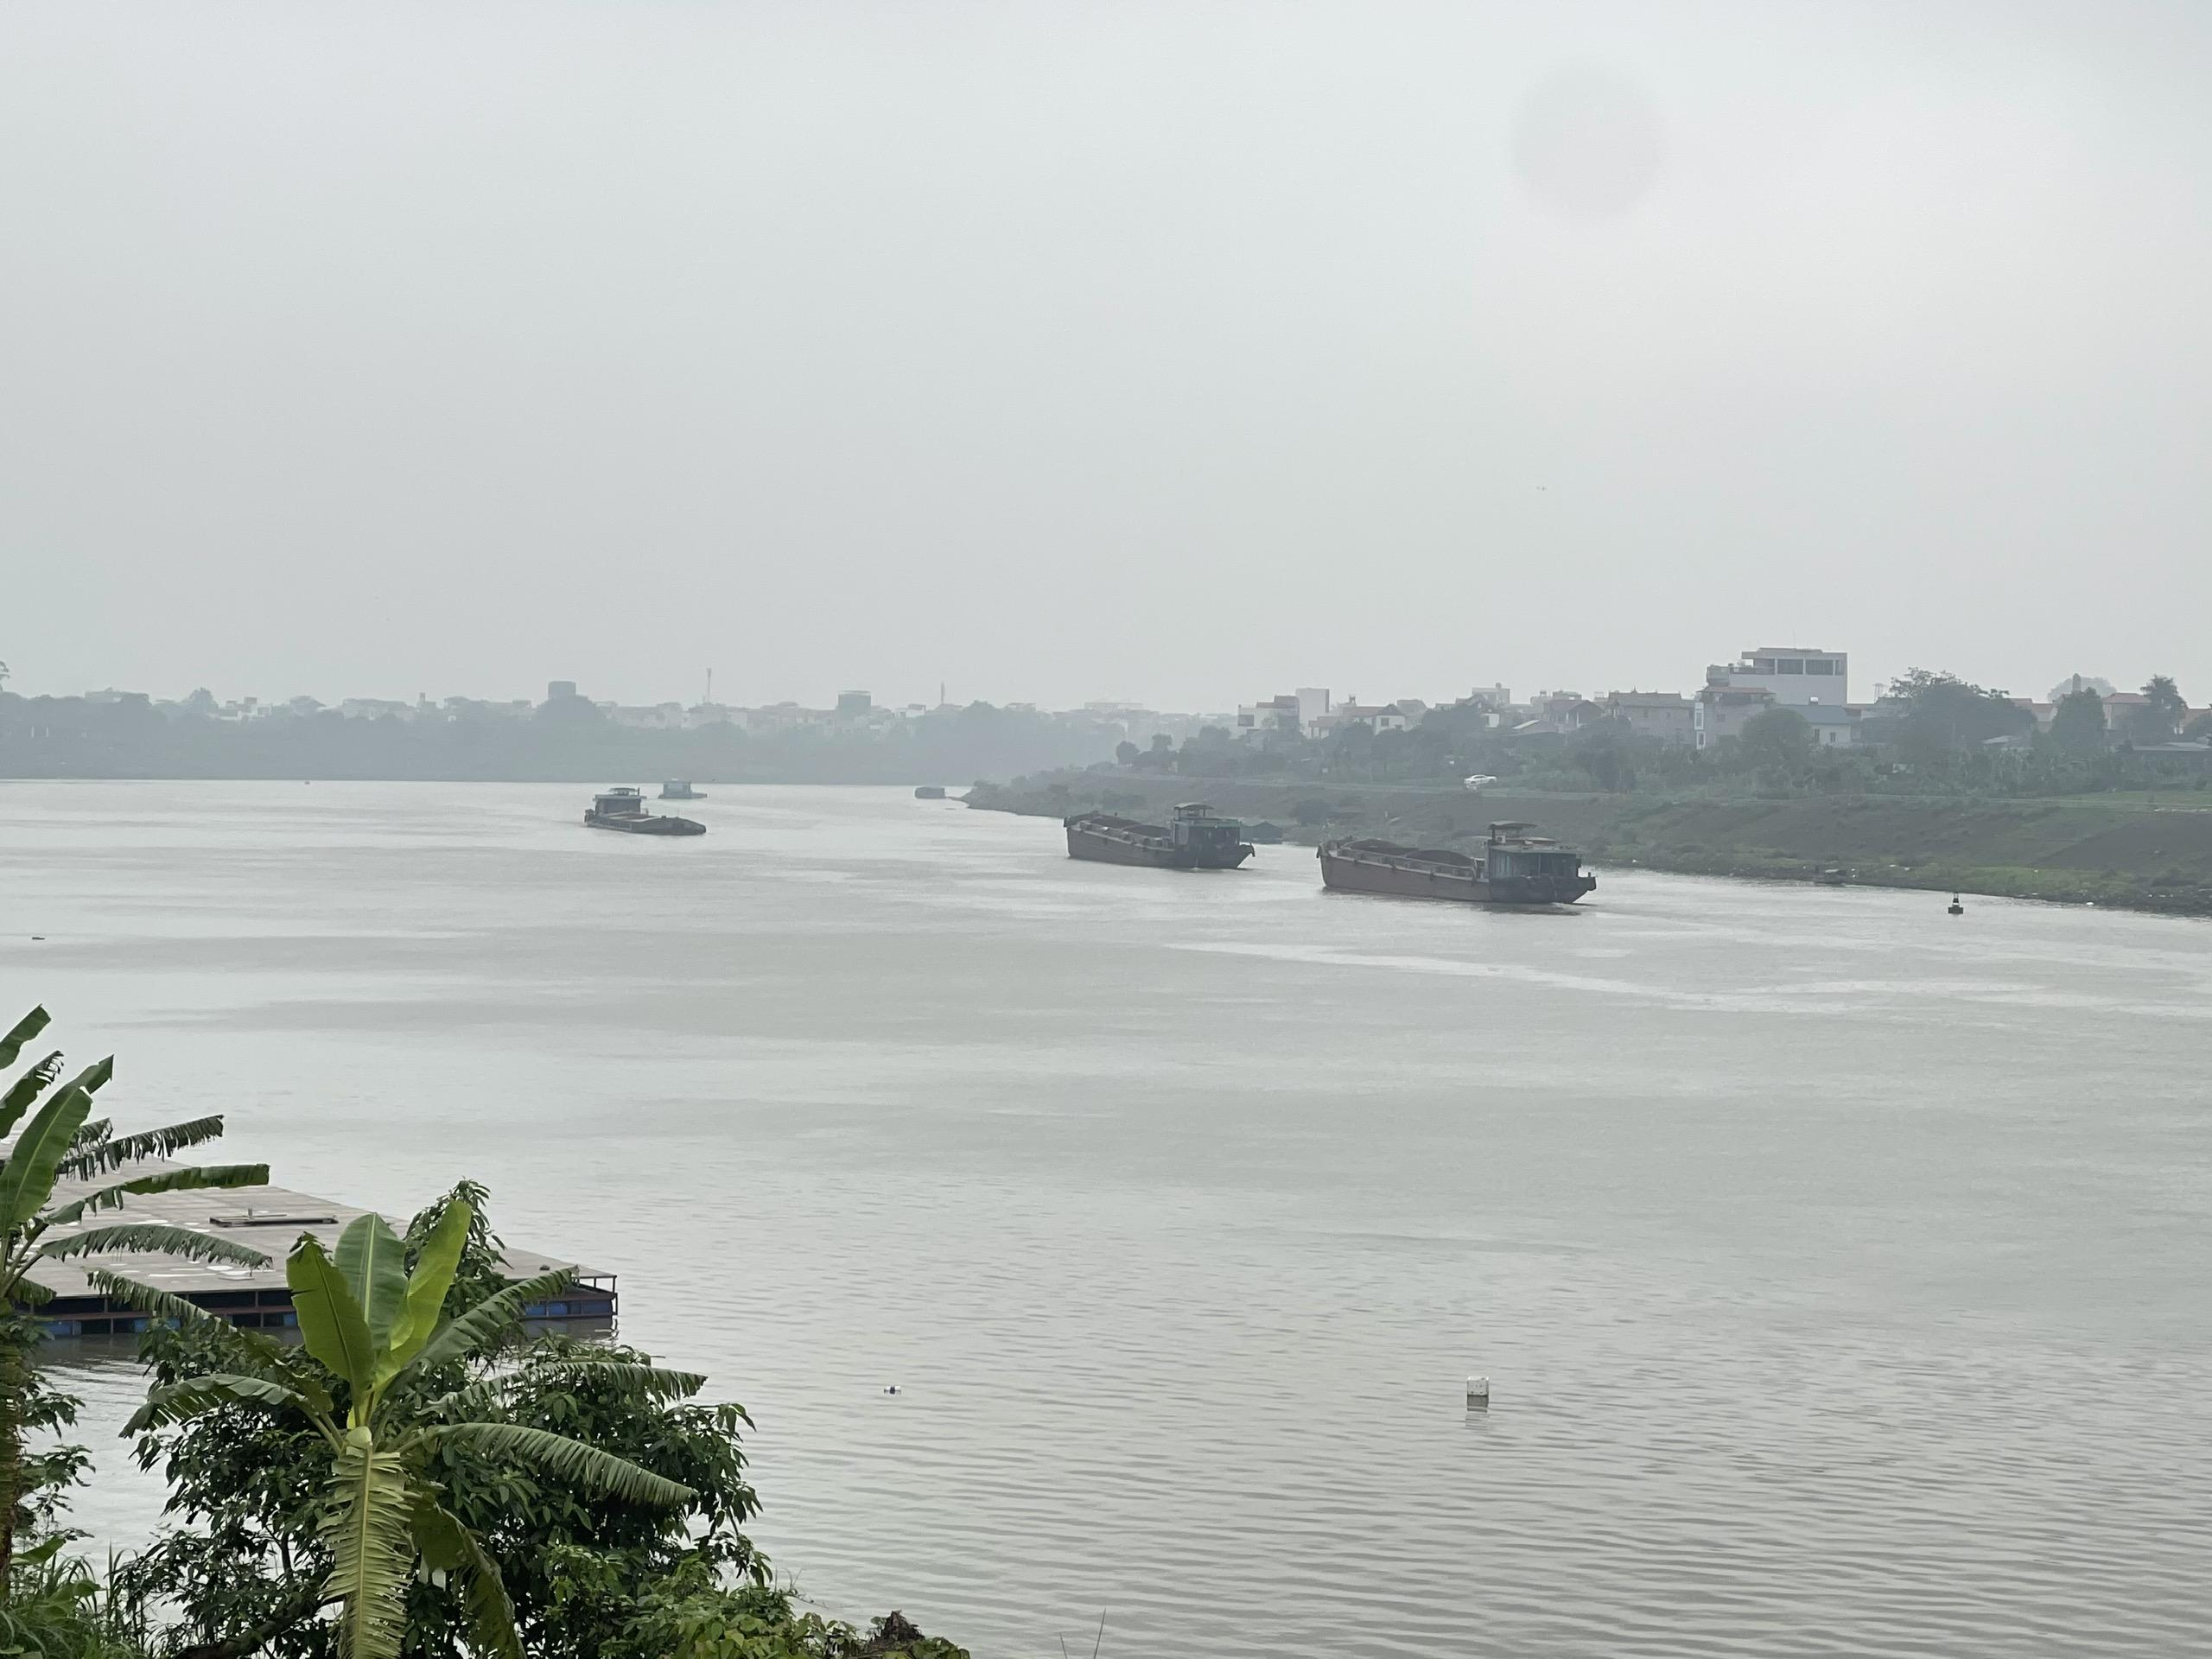Ship: (1315, 823, 1608, 917), (1050, 800, 1261, 878), (563, 779, 712, 842)
